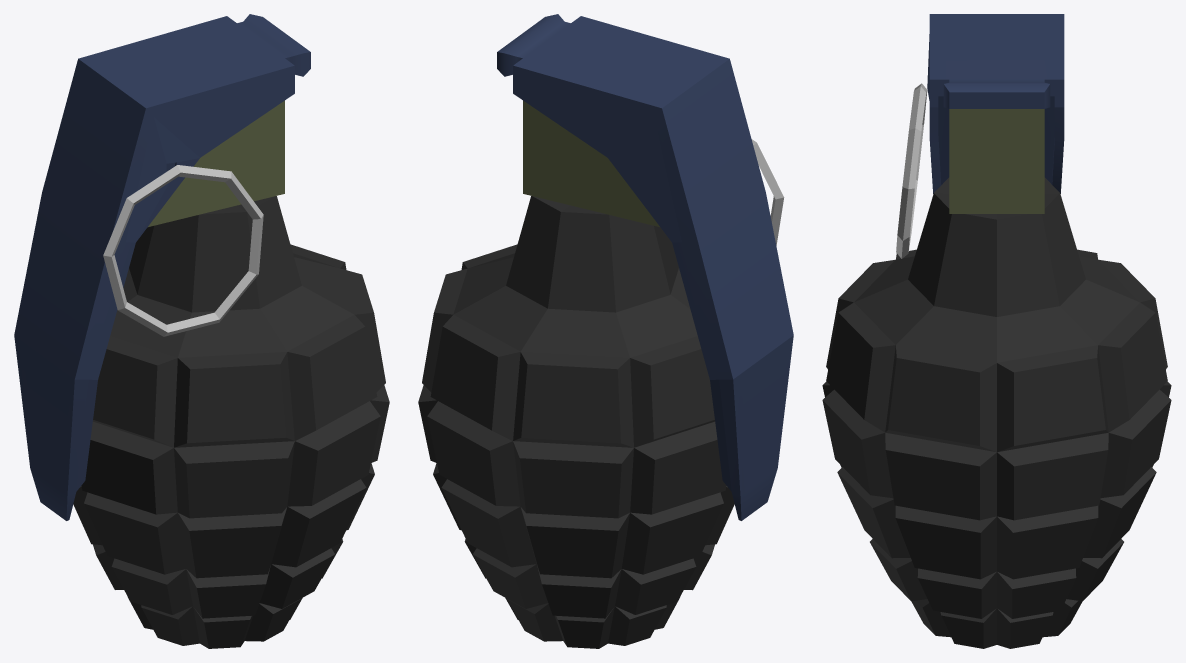
File: grenade.fbx
The picture shows the model from 3 angles, left to right: view 1: azimuth 30°, elevation 25°; view 2: azimuth 150°, elevation 25°; view 3: azimuth 270°, elevation 25°; orthographic projection.
Parts seen in each view (by area): view 1: pSphere1, handle, polySurface1, large_ring; view 2: pSphere1, handle, polySurface1, large_ring; view 3: pSphere1, handle, polySurface1, large_ring.
Boxes of the visible parts, bbox=[...] form: pSphere1: bbox=[73, 196, 389, 648]; handle: bbox=[14, 14, 310, 520]; polySurface1: bbox=[148, 100, 284, 226]; large_ring: bbox=[103, 165, 263, 336]; pSphere1: bbox=[418, 196, 734, 648]; handle: bbox=[497, 14, 793, 520]; polySurface1: bbox=[523, 100, 659, 226]; large_ring: bbox=[751, 139, 784, 245]; pSphere1: bbox=[822, 177, 1171, 648]; handle: bbox=[927, 14, 1064, 193]; polySurface1: bbox=[949, 109, 1044, 213]; large_ring: bbox=[896, 83, 927, 258].
Bounding box in the file's own units: 2.39 × 4.03 × 2.25.
